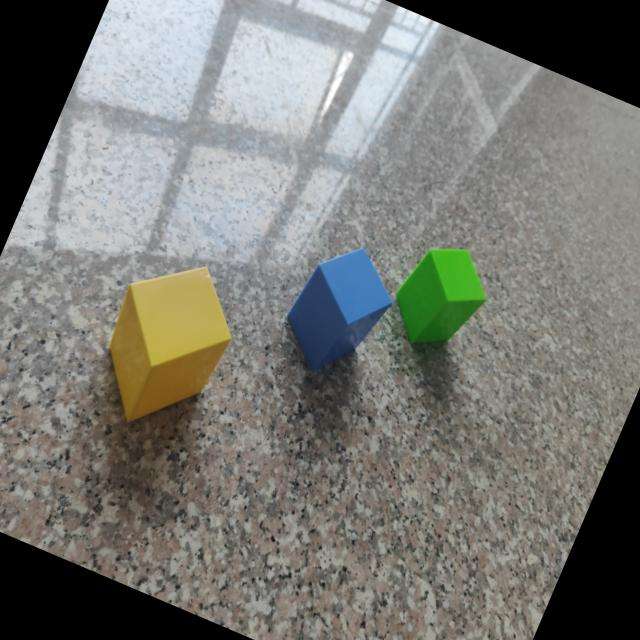blue: (285, 250, 392, 373)
green: (393, 248, 485, 345)
yellow: (107, 267, 231, 423)
